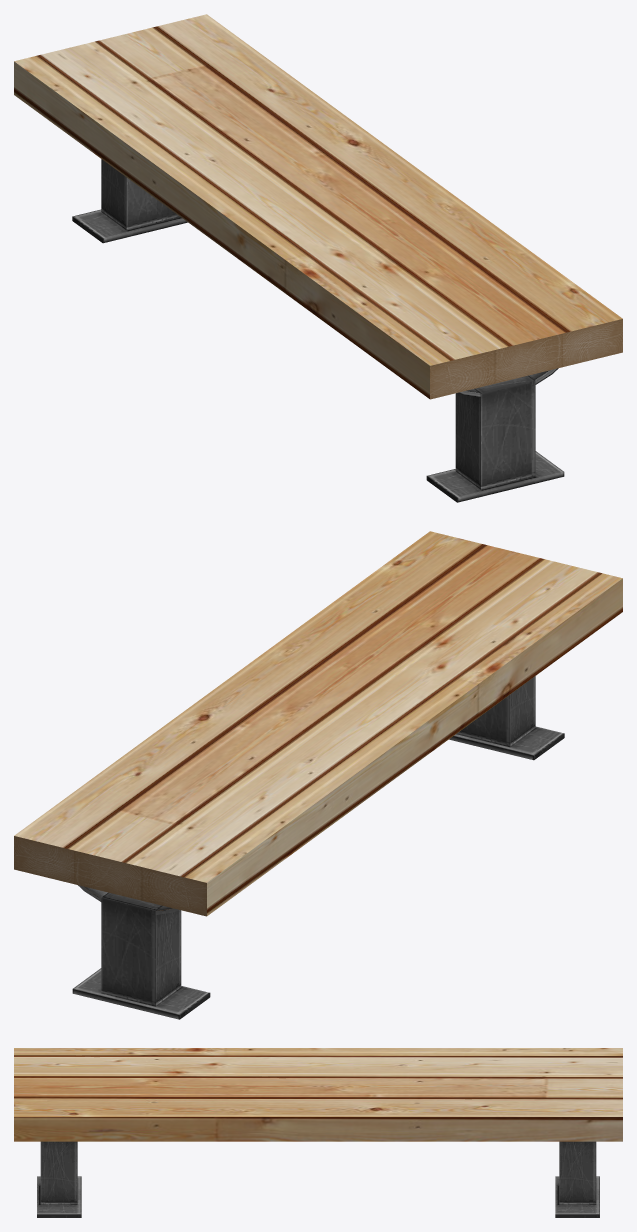
File: Bench03a.FBX
3 renders of one model, top to bottom at view 1: azimuth 30°, elevation 25°; view 2: azimuth 150°, elevation 25°; view 3: azimuth 270°, elevation 25°, orthographic. The views are drawn at different scales.
Parts seen in each view (by area): view 1: Bench03a; view 2: Bench03a; view 3: Bench03a.
Part boxes in pixels (x1,y1,x2,y2): Bench03a: (14,14,622,502); Bench03a: (14,531,622,1019); Bench03a: (14,1048,622,1217).
Bounding box in the file's own units: 746 × 587 × 2787.
